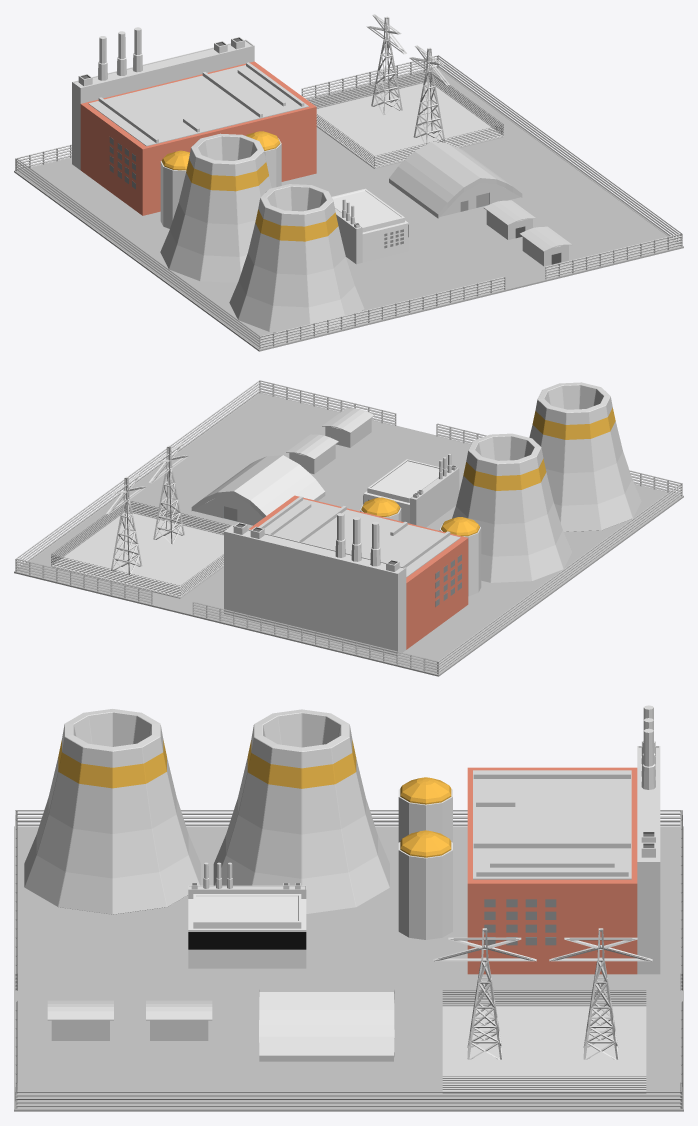
File: Nuclear_plant_H.fbx
3 views of the same model, one above another, from view 1: azimuth 30°, elevation 25°; view 2: azimuth 150°, elevation 25°; view 3: azimuth 270°, elevation 25° (orthographic). The views are drawn at different scales.
Visible parts, largest first — view 1: Cube.061, Cube.064, Cylinder, Cube.072, Cylinder.001, Cube.065, Cube.069, Cube.066, Cube.071, Cube.070, Cube.068, Cube.067 (+4 smaller); view 2: Cube.061, Cube.064, Cube.072, Cylinder.001, Cylinder, Cube.069, Cube.065, Cube.066, Cube.071, Cube.070, Cube.067, Cube.068 (+4 smaller); view 3: Cube.061, Cylinder, Cylinder.001, Cube.064, Cube.065, Cube.069, Cube.072, Cube.071, Cube.066, Cylinder.003, Cube.070, Cube.068 (+4 smaller).
Part boxes in pixels (x1,y1,x2,y2): Cube.061: (14,67,683,351); Cube.064: (72,27,316,215); Cylinder: (229,184,364,333); Cube.072: (15,55,682,349); Cylinder.001: (160,133,271,282); Cube.065: (88,62,308,146); Cube.069: (316,82,503,168); Cube.066: (389,142,522,218); Cube.071: (332,188,408,264); Cube.070: (307,70,503,167); Cube.068: (366,14,406,114); Cube.067: (409,45,449,144); Cube.061: (14,392,683,676); Cube.064: (224,495,468,655); Cube.072: (15,380,682,674); Cylinder.001: (452,433,571,582); Cylinder: (529,382,641,531); Cube.069: (51,512,223,598); Cube.065: (258,496,460,577); Cube.066: (191,455,325,525); Cube.071: (363,453,459,527); Cube.070: (51,501,230,597); Cube.067: (149,443,189,543); Cube.068: (106,474,146,574); Cube.061: (14,826,683,1111); Cylinder: (24,709,200,914); Cylinder.001: (213,709,389,913); Cube.064: (467,705,660,974); Cube.065: (473,770,631,879); Cube.069: (442,1006,646,1093); Cube.072: (15,810,682,1108); Cube.071: (188,862,306,968); Cube.066: (259,988,394,1061); Cylinder.003: (398,830,452,939); Cube.070: (442,990,646,1089); Cube.068: (549,928,652,1059).
Size of the model in its own units: 155 by 155 by 43.87.
Materials: 3 (1 with a texture image).
